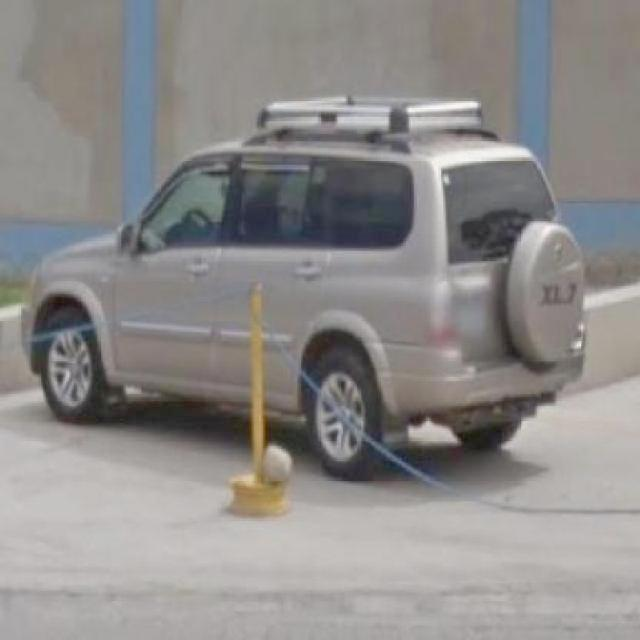car: (20, 107, 596, 484)
